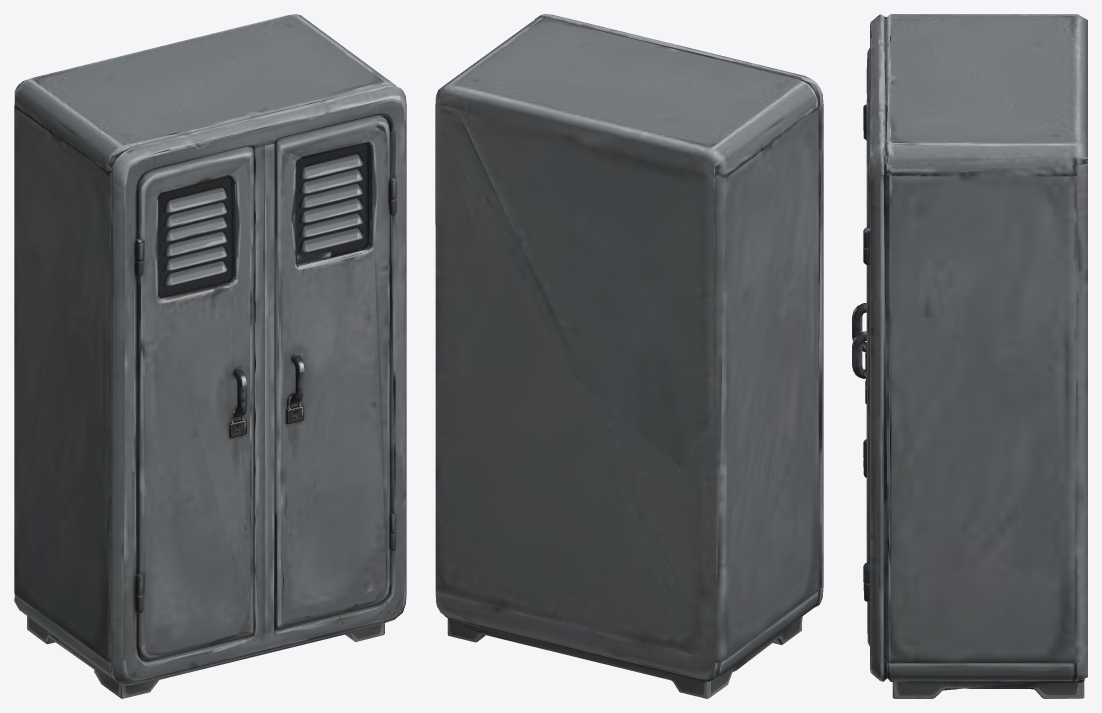
File: locker.glb
3 views of the same model, side by side, from view 1: azimuth 30°, elevation 25°; view 2: azimuth 150°, elevation 25°; view 3: azimuth 270°, elevation 25° (orthographic).
Parts seen in each view (by area): view 1: locker; view 2: locker; view 3: locker.
Boxes of the visible parts, x1,y1,x2,y2 form: locker: (14,14,406,698); locker: (435,14,823,698); locker: (852,14,1087,698).
Bounding box in the file's own units: 0.86 × 1.55 × 0.595.
Materials: 1 (1 with a texture image).
